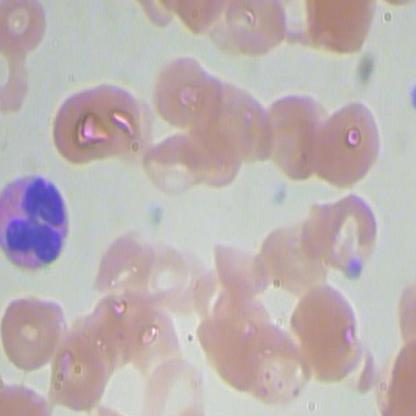Platelets: (346, 258, 363, 282)
RBC: (315, 188, 390, 285), (317, 92, 391, 189), (235, 316, 311, 406), (1, 280, 70, 378), (259, 93, 329, 185), (291, 279, 357, 361), (149, 49, 215, 130), (49, 89, 116, 166), (120, 305, 187, 381), (92, 229, 159, 296), (144, 128, 210, 195), (210, 237, 276, 303), (221, 1, 287, 67), (148, 244, 196, 306), (1, 1, 50, 56)
WBC: (1, 172, 79, 274)
